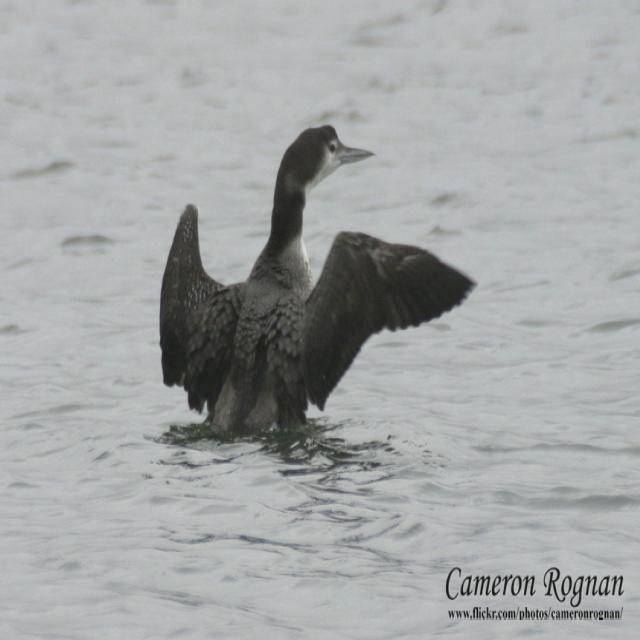bird: (144, 122, 479, 433)
